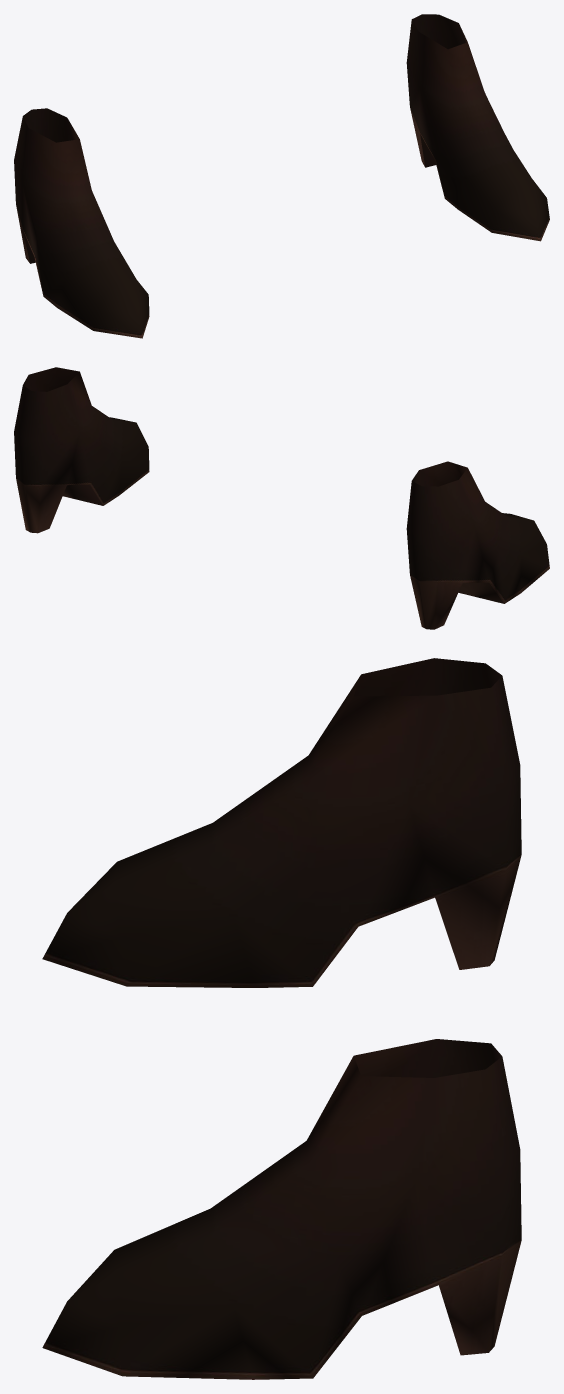
Rendered from foot1-1.glb.
3 renders of one model, top to bottom at view 1: azimuth 30°, elevation 25°; view 2: azimuth 150°, elevation 25°; view 3: azimuth 270°, elevation 25°, orthographic. The views are drawn at different scales.
Visible parts, largest first — view 1: Foot; view 2: Foot; view 3: Foot.
Part boxes in pixels (box(x1,y1,x2,y2)): Foot: box(14, 14, 549, 338); Foot: box(14, 367, 549, 629); Foot: box(42, 658, 521, 1379).
Size of the model in its own units: 0.4458 by 0.1323 by 0.1996.
1 material, 1 textured.
